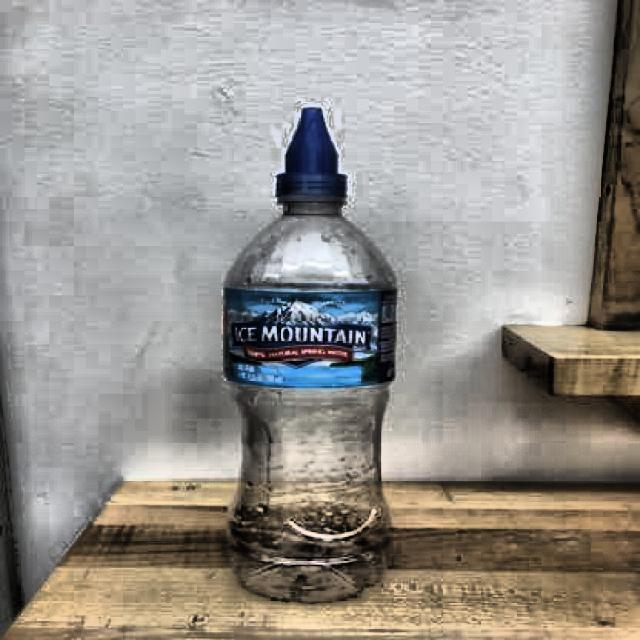Bottles: (207, 96, 421, 611)
